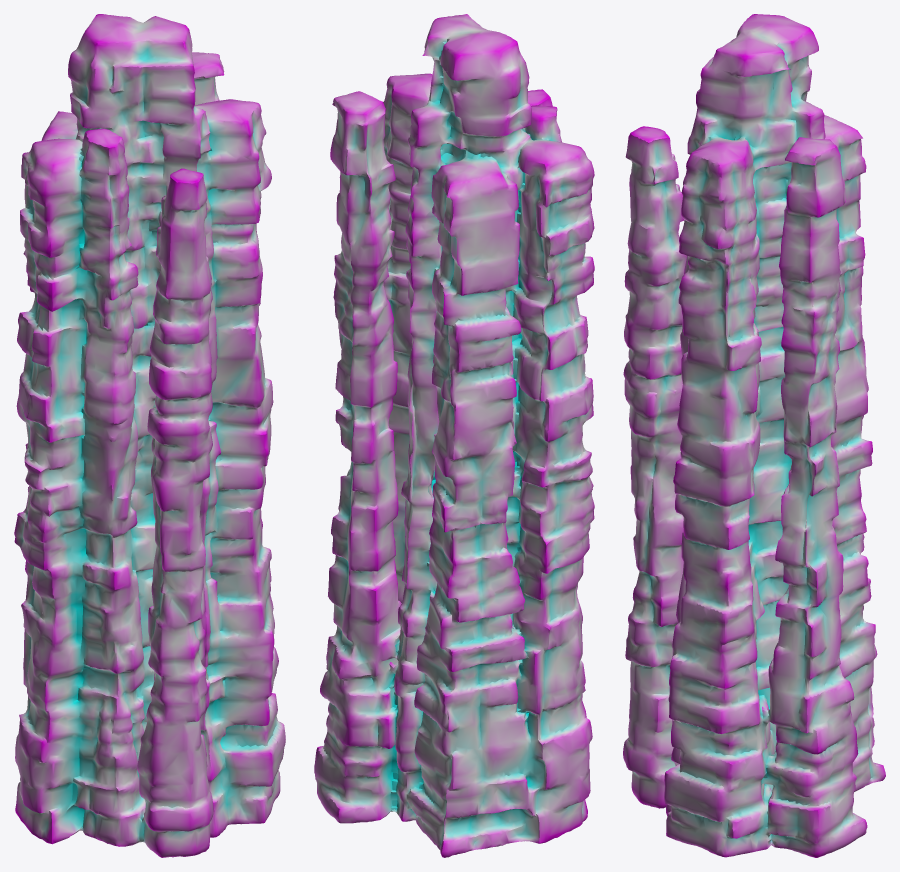
File: Macico_4.fbx
3 renders of one model, left to right at view 1: azimuth 30°, elevation 25°; view 2: azimuth 150°, elevation 25°; view 3: azimuth 270°, elevation 25°, orthographic.
Visible parts, largest first — view 1: Macico_4; view 2: Macico_4; view 3: Macico_4.
Part boxes in pixels (x1,y1,x2,y2): Macico_4: [14, 14, 285, 857]; Macico_4: [314, 14, 594, 857]; Macico_4: [623, 14, 885, 857].
Bounding box in the file's own units: 124 × 382 × 118.
